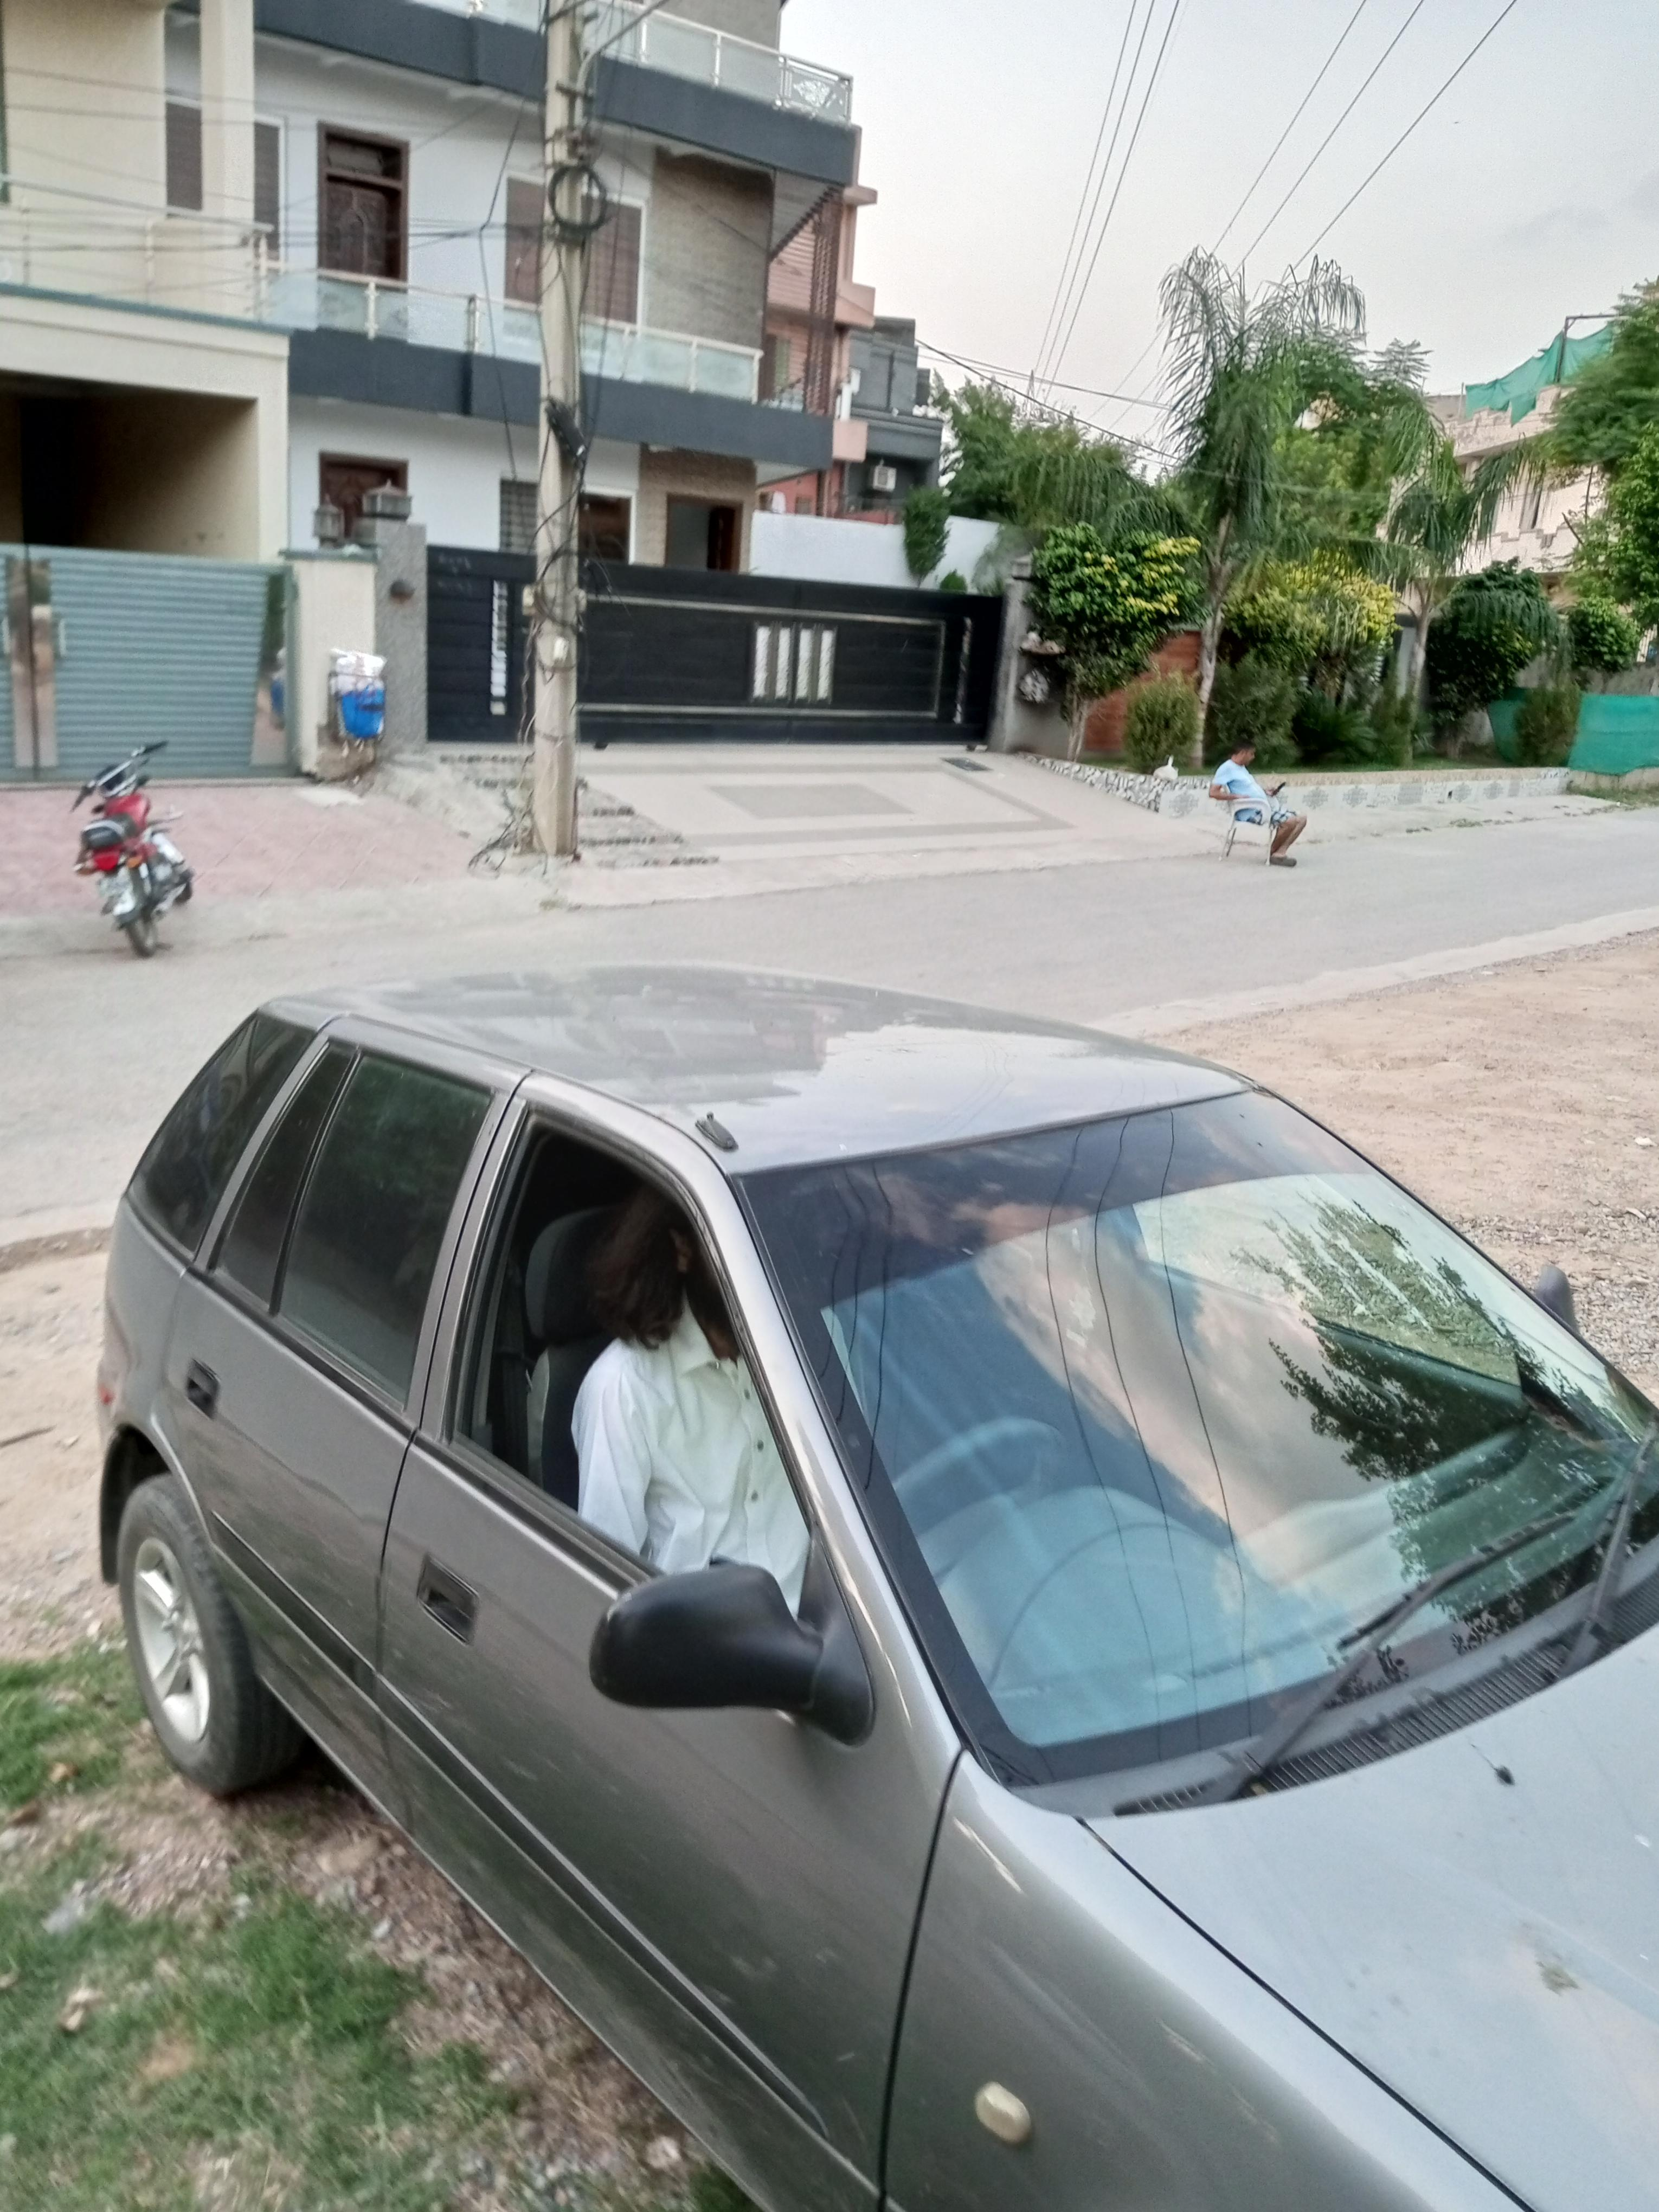windshield: (711, 1085, 1659, 1848)
